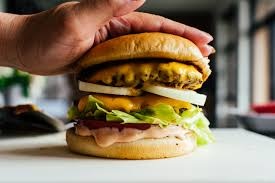hamburger: (61, 29, 217, 161)
